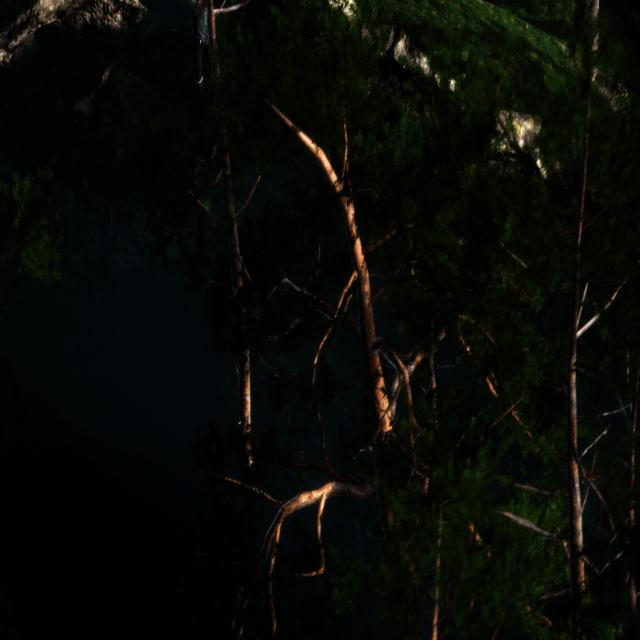Human: (188, 0, 214, 97)
